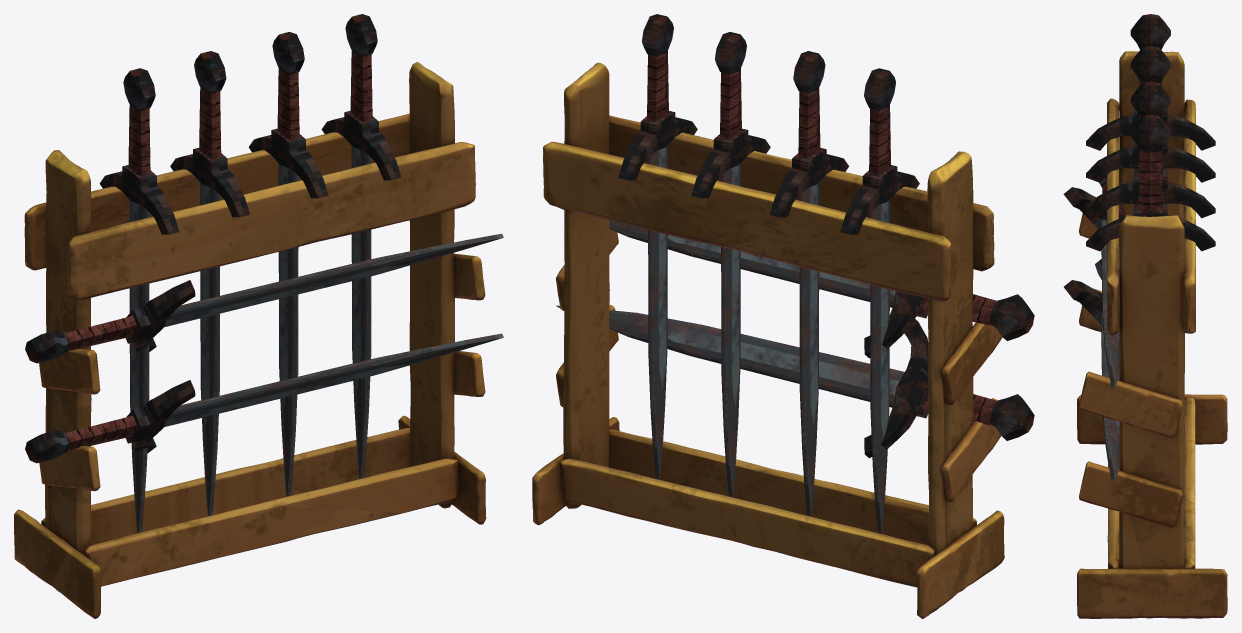
The model's file is swordrack.glb.
3 views of the same model, side by side, from view 1: azimuth 30°, elevation 25°; view 2: azimuth 150°, elevation 25°; view 3: azimuth 270°, elevation 25° (orthographic). The views are drawn at different scales.
Visible parts, largest first — view 1: swordrack; view 2: swordrack; view 3: swordrack.
Boxes of the visible parts, x1,y1,x2,y2 form: swordrack: (14, 14, 503, 618); swordrack: (532, 14, 1034, 618); swordrack: (1063, 14, 1227, 618).
Size of the model in its own units: 17.69 by 17.83 by 5.73.
Materials: 2 (2 with a texture image).
